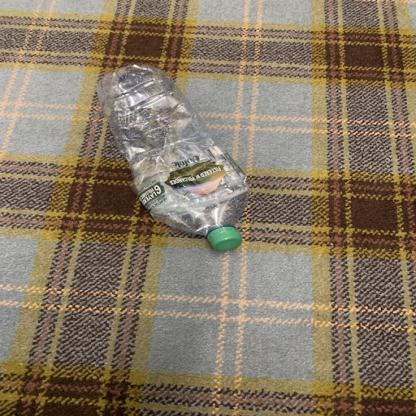trash: (94, 65, 251, 254)
